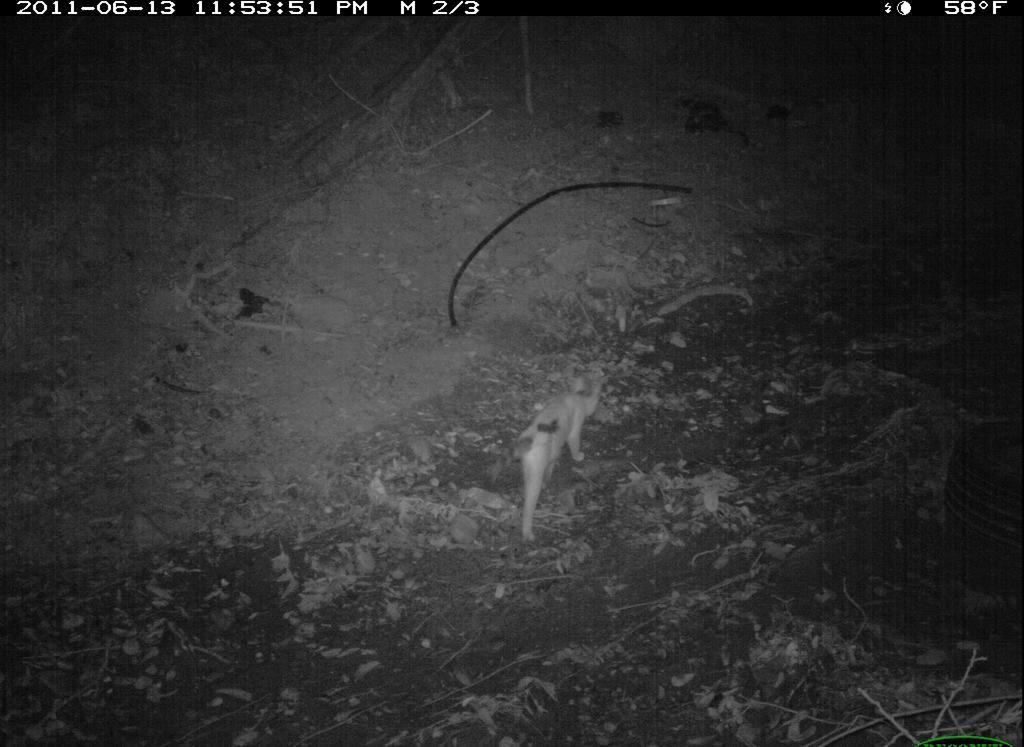cat: (500, 364, 616, 546)
